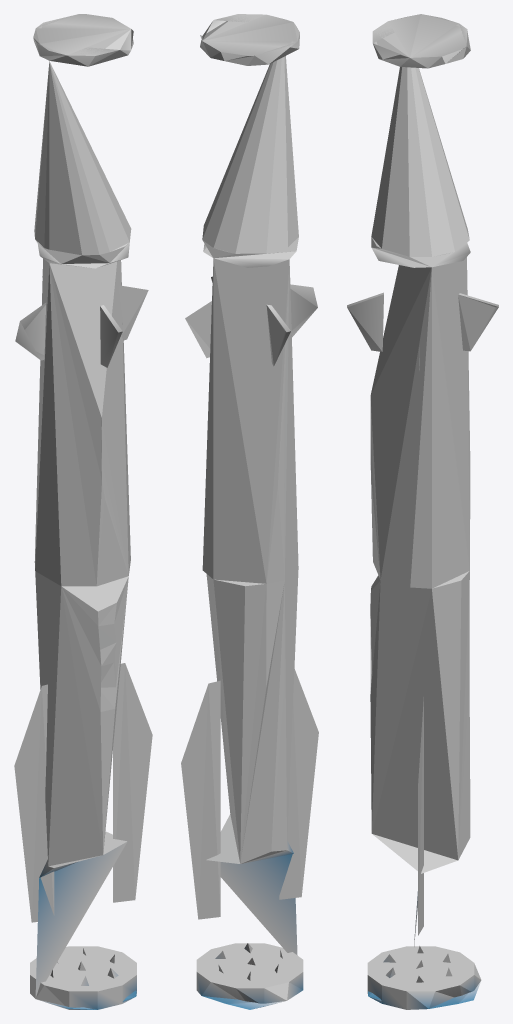
3 views of the same model, side by side, from view 1: azimuth 30°, elevation 25°; view 2: azimuth 210°, elevation 25°; view 3: azimuth 270°, elevation 25° (orthographic).
Visible parts, largest first — view 1: Object_2; view 2: Object_2; view 3: Object_2.
Boxes of the visible parts, x1,y1,x2,y2 form: Object_2: (14, 14, 152, 1009); Object_2: (181, 14, 318, 1009); Object_2: (347, 14, 498, 1009).
Bounding box in the file's own units: 110 × 743 × 107.
